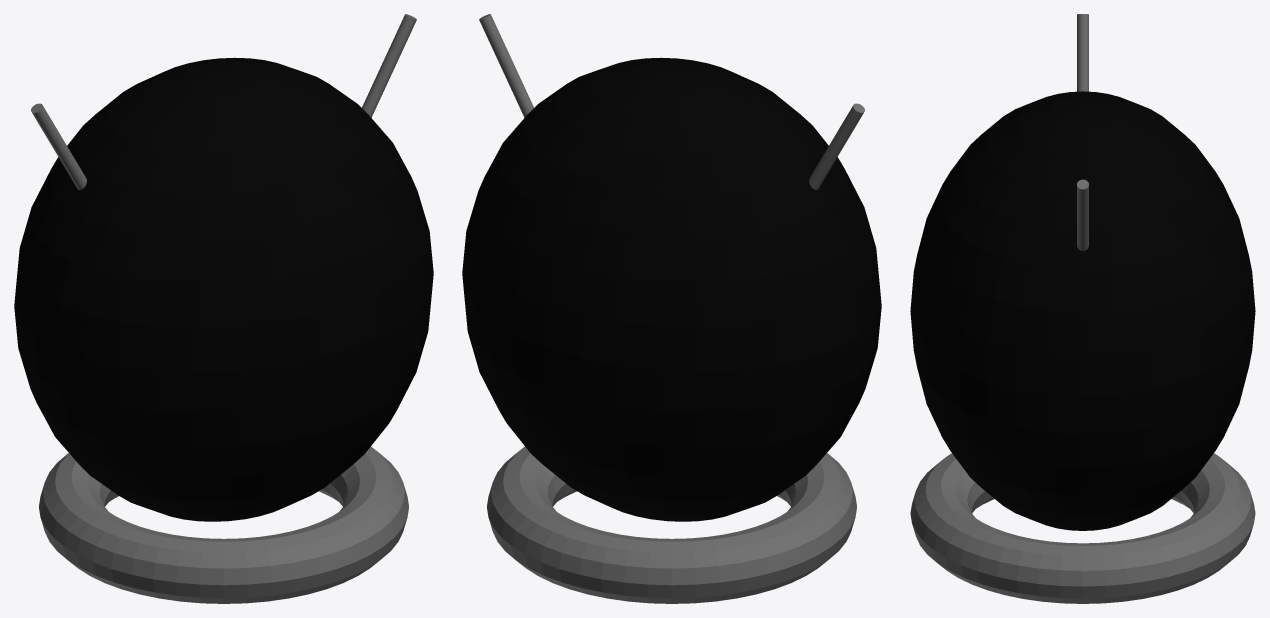
The model's file is accountant_v12_robot.glb.
The picture shows the model from 3 angles, left to right: view 1: azimuth 30°, elevation 25°; view 2: azimuth 150°, elevation 25°; view 3: azimuth 270°, elevation 25°; orthographic projection. The views are drawn at different scales.
Visible parts, largest first — view 1: Robot_Head, Torus, Cylinder.001, Cylinder; view 2: Robot_Head, Torus, Cylinder.001, Cylinder; view 3: Robot_Head, Torus, Cylinder, Cylinder.001.
Part boxes in pixels (bbox=[...]): Robot_Head: bbox=[14, 57, 433, 521]; Torus: bbox=[39, 446, 408, 603]; Cylinder.001: bbox=[362, 14, 416, 117]; Cylinder: bbox=[31, 103, 86, 189]; Robot_Head: bbox=[462, 57, 881, 521]; Torus: bbox=[487, 446, 856, 603]; Cylinder.001: bbox=[479, 14, 533, 117]; Cylinder: bbox=[809, 103, 864, 189]; Robot_Head: bbox=[910, 91, 1255, 530]; Torus: bbox=[910, 453, 1255, 603]; Cylinder: bbox=[1077, 14, 1088, 91]; Cylinder.001: bbox=[1077, 179, 1088, 250].
Size of the model in its own units: 2.04 by 2.42 by 1.7.
Materials: 2 (1 with a texture image).
